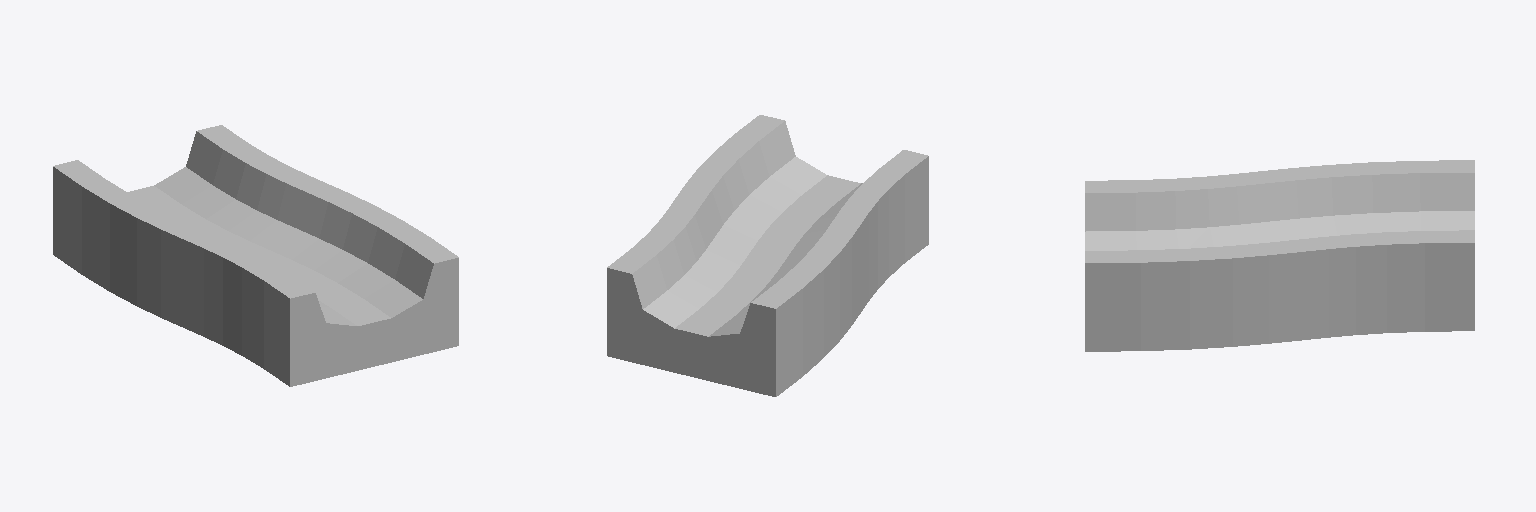
The model's file is s-curve-short-left-a.obj.
3 renders of one model, left to right at view 1: azimuth 30°, elevation 25°; view 2: azimuth 150°, elevation 25°; view 3: azimuth 270°, elevation 25°, orthographic.
Parts seen in each view (by area): view 1: s-curve-short-left-a; view 2: s-curve-short-left-a; view 3: s-curve-short-left-a.
Boxes of the visible parts, <box> form: s-curve-short-left-a: <box>53,125,458,386</box>; s-curve-short-left-a: <box>607,115,928,396</box>; s-curve-short-left-a: <box>1085,160,1474,351</box>.
Size of the model in its own units: 1.25 by 0.5 by 2.